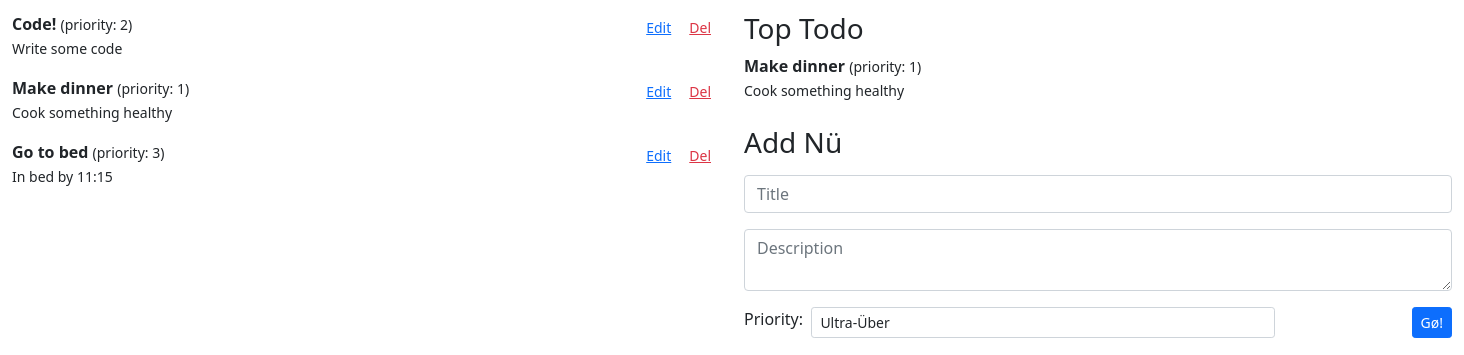
it: TodoApp component › removes a todo
Click the button with class "EditableTodo-delBtn" in the row of "Write some code" at (700, 28), box [680,12,720,43]
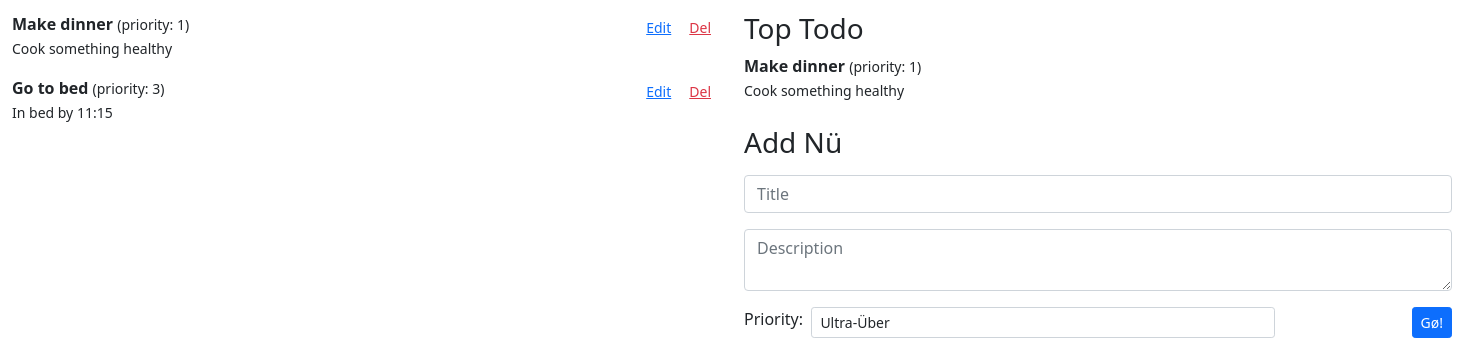
Check: the text "Write some code" is gone
